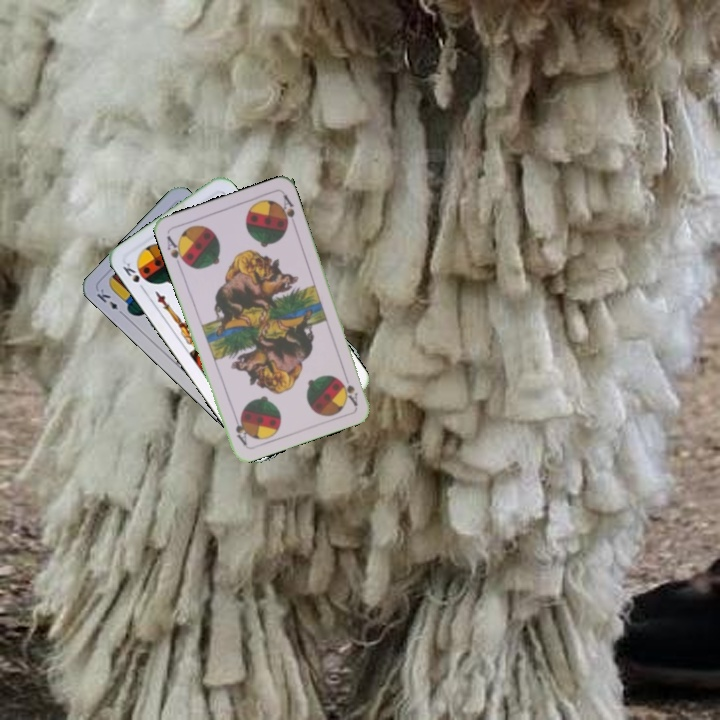EK: (93, 284, 127, 318)
SA: (163, 231, 189, 270), (337, 369, 361, 408)
SK: (118, 259, 148, 294)
